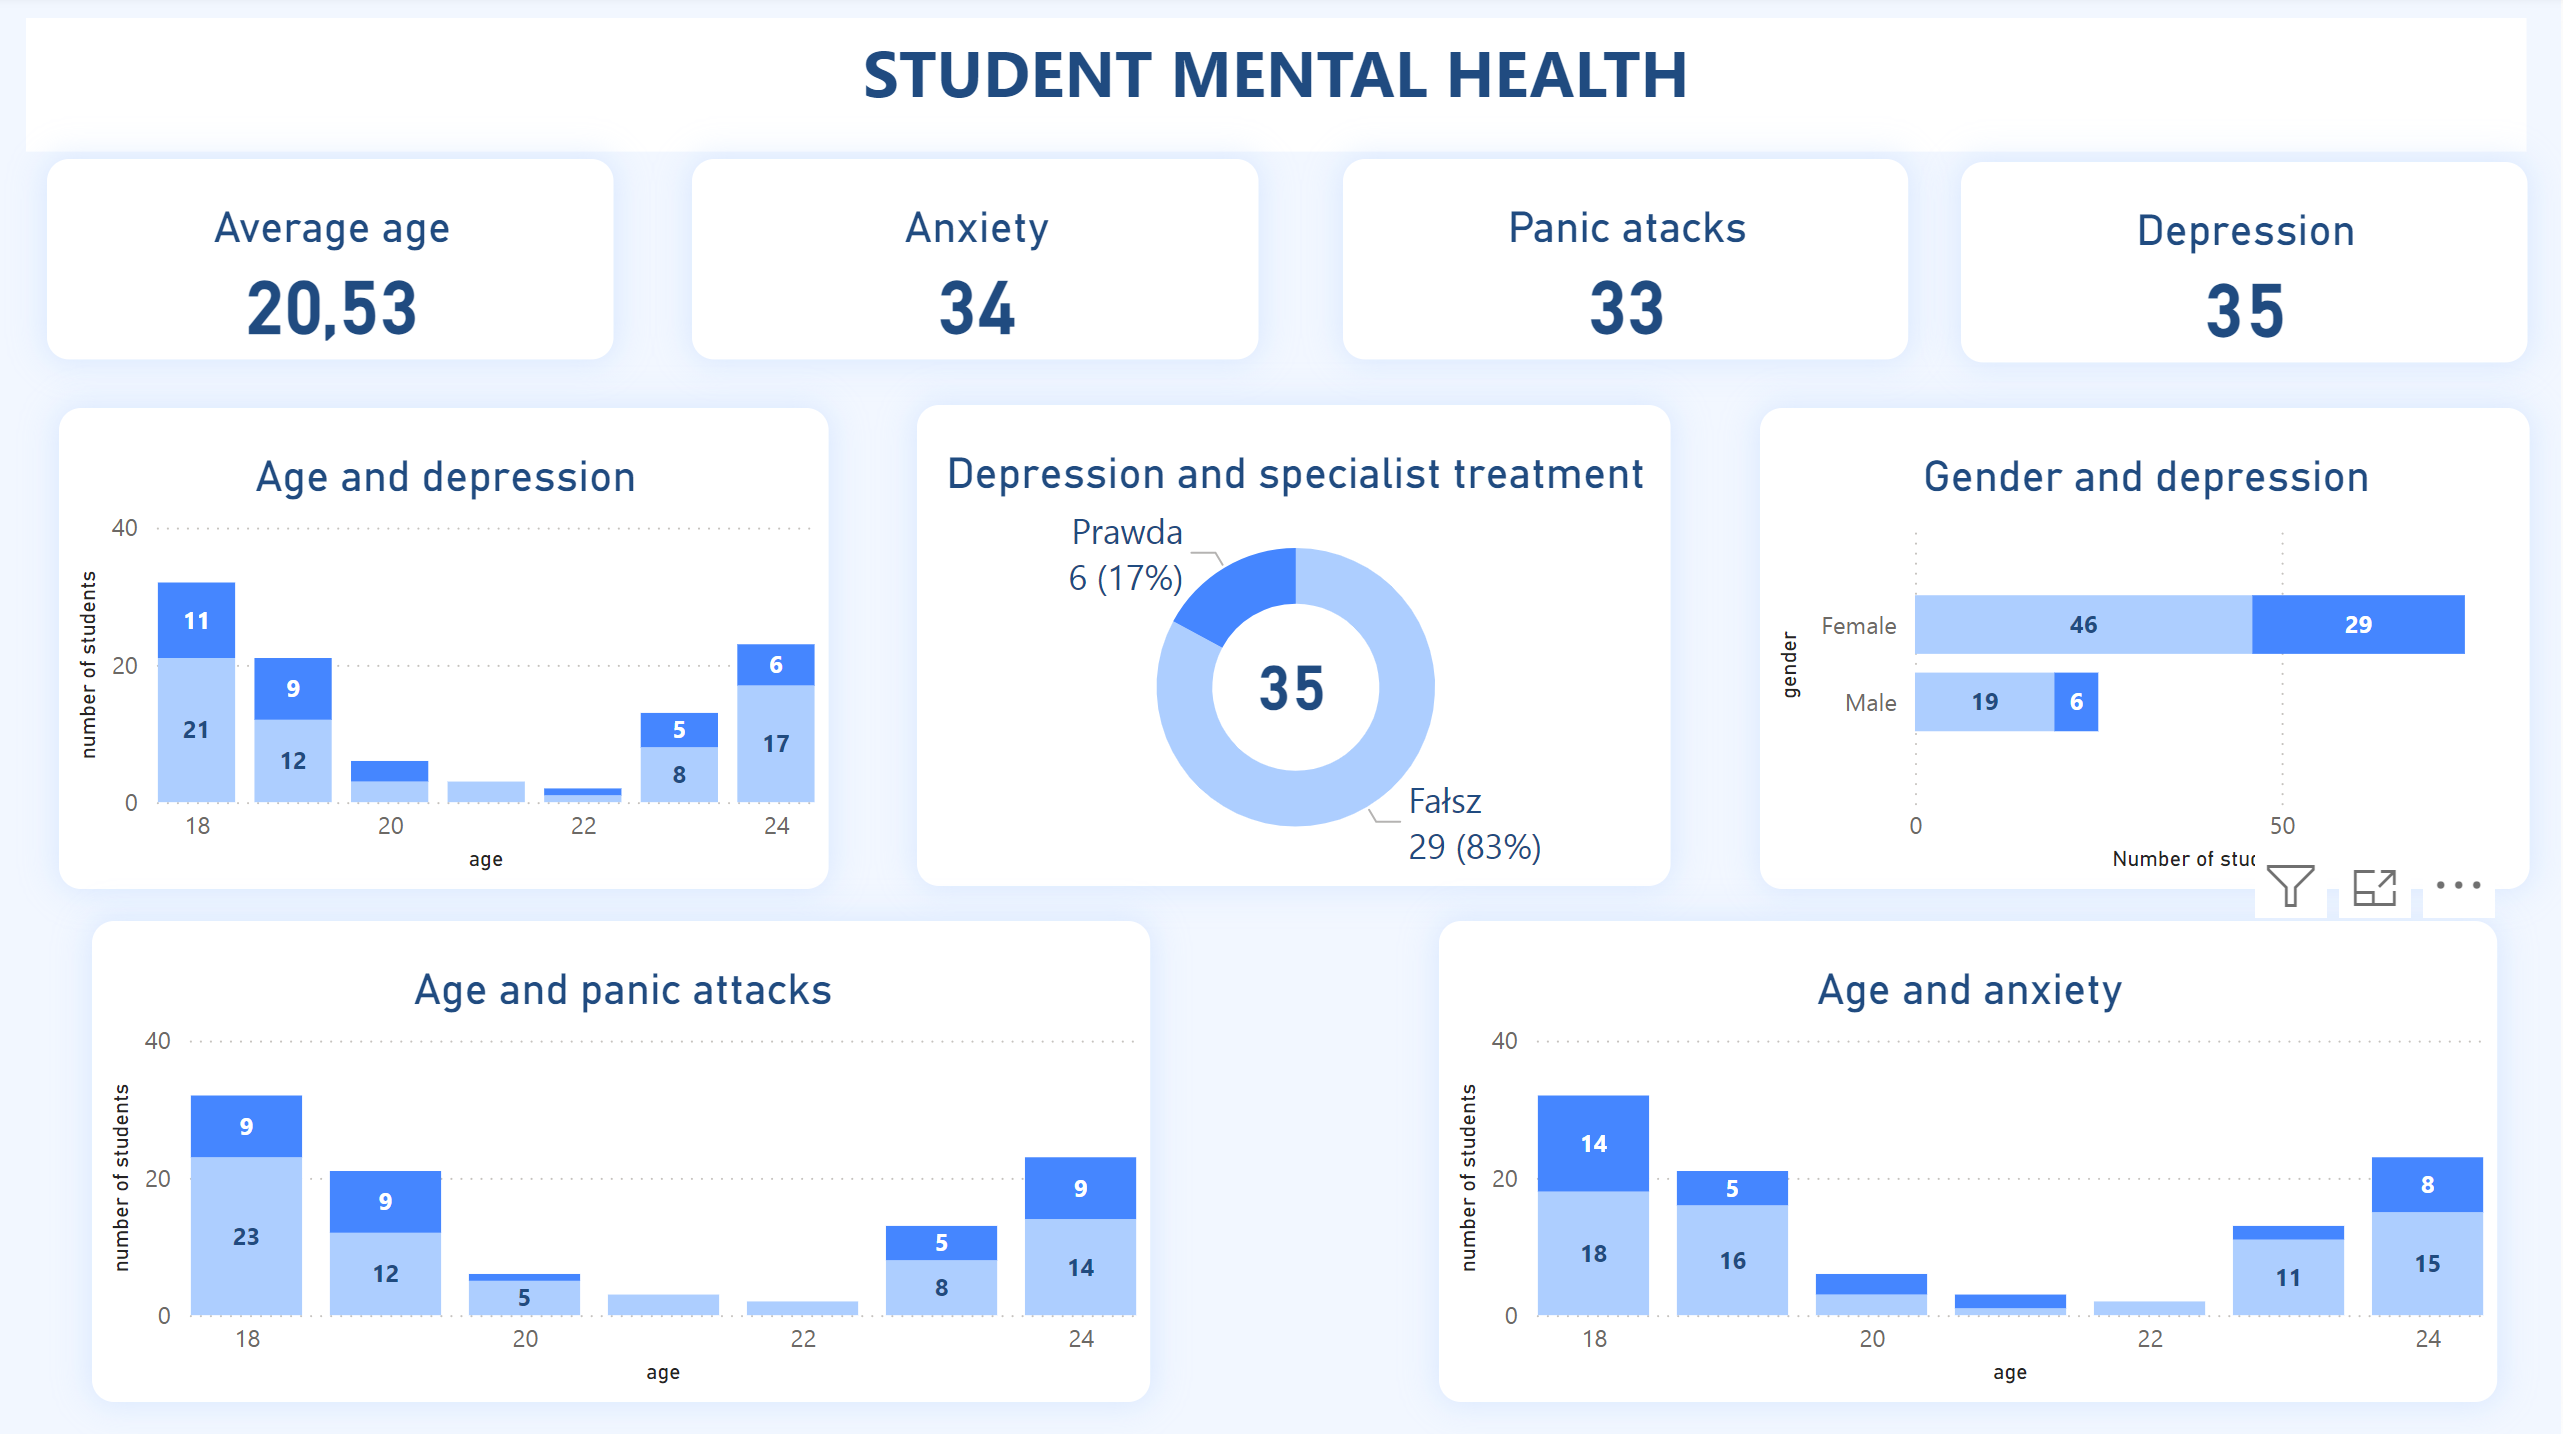

The dashboard page shown, as its layout file describes it:
{"tool":"powerbi","page":{"name":"Page 1","canvas":[1280,720],"ordinal":0},"visuals":[{"type":"textbox","box":[14.5,13,1247.8,66.7],"z":0},{"type":"card","title":"Average age","fields":{"Values":["Sum(Query1.averageAge)"]},"box":[26.1,84.1,282.6,100],"z":1000},{"type":"card","title":"Panic atacks","fields":{"Values":["Sum(Query4.with_panic_attack)"]},"box":[672.5,84.1,282,100],"z":2000},{"type":"card","title":"Depression","fields":{"Values":["Sum(Query2.with_depression)"]},"box":[979.7,85.5,282.6,100],"z":3000},{"type":"card","title":"Anxiety","fields":{"Values":["Sum(Query3.with_anxiety)"]},"box":[347.8,84.1,282.6,100],"z":4000},{"type":"group","id":"g1","title":"Group 1","box":[459.2,207.2,376,240],"z":5000},{"type":"donutChart","title":"Depression and specialist treatment","fields":{"Y":["Sum(Query7.numOfStudents)"],"Category":["Query7.seen_specialist_for_treatment"]},"box":[459.2,207.2,376,240],"z":6000,"group":"g1"},{"type":"barChart","title":"Gender and depression","fields":{"Category":["Query9.gender"],"Y":["Sum(Query9.numOfStudents)"],"Series":["Query9.depression"]},"box":[880,208,384,240],"z":6000},{"type":"card","title":"Students with depression and specialist treatment","fields":{"Values":["Sum(Query7.numOfStudents)"]},"box":[574.7,273.8,144.3,136.1],"z":7000,"group":"g1"},{"type":"columnChart","title":"Age and depression","fields":{"Category":["Query5.age"],"Y":["Sum(Query5.numOfStudents)"],"Series":["Query5.depression"]},"box":[32,208,384,240],"z":7000},{"type":"columnChart","title":"Age and anxiety","fields":{"Category":["Query6.age"],"Series":["Query6.anxiety"],"Y":["Sum(Query6.numOfStudents)"]},"box":[720,464,528,240],"z":8000},{"type":"columnChart","title":"Age and panic attacks","fields":{"Series":["Query8.panic_attack"],"Y":["Sum(Query8.numOfStudents)"],"Category":["Query8.age"]},"box":[48,464,528,240],"z":9000}]}

Visuals, with their boxes in screenshot pixels (x1, y1, x2, y2), scaled from the page's 1280x720 canvas onto the 2563x1435 screenshot:
textbox: <box>29,26,2528,159</box>
"Average age" card: <box>52,168,618,367</box>
"Panic atacks" card: <box>1347,168,1911,367</box>
"Depression" card: <box>1962,170,2528,370</box>
"Anxiety" card: <box>696,168,1262,367</box>
"Group 1" group: <box>919,413,1672,891</box>
"Depression and specialist treatment" donutChart: <box>919,413,1672,891</box>
"Gender and depression" barChart: <box>1762,415,2531,893</box>
"Students with depression and specialist treatment" card: <box>1151,546,1440,817</box>
"Age and depression" columnChart: <box>64,415,833,893</box>
"Age and anxiety" columnChart: <box>1442,925,2499,1403</box>
"Age and panic attacks" columnChart: <box>96,925,1153,1403</box>
